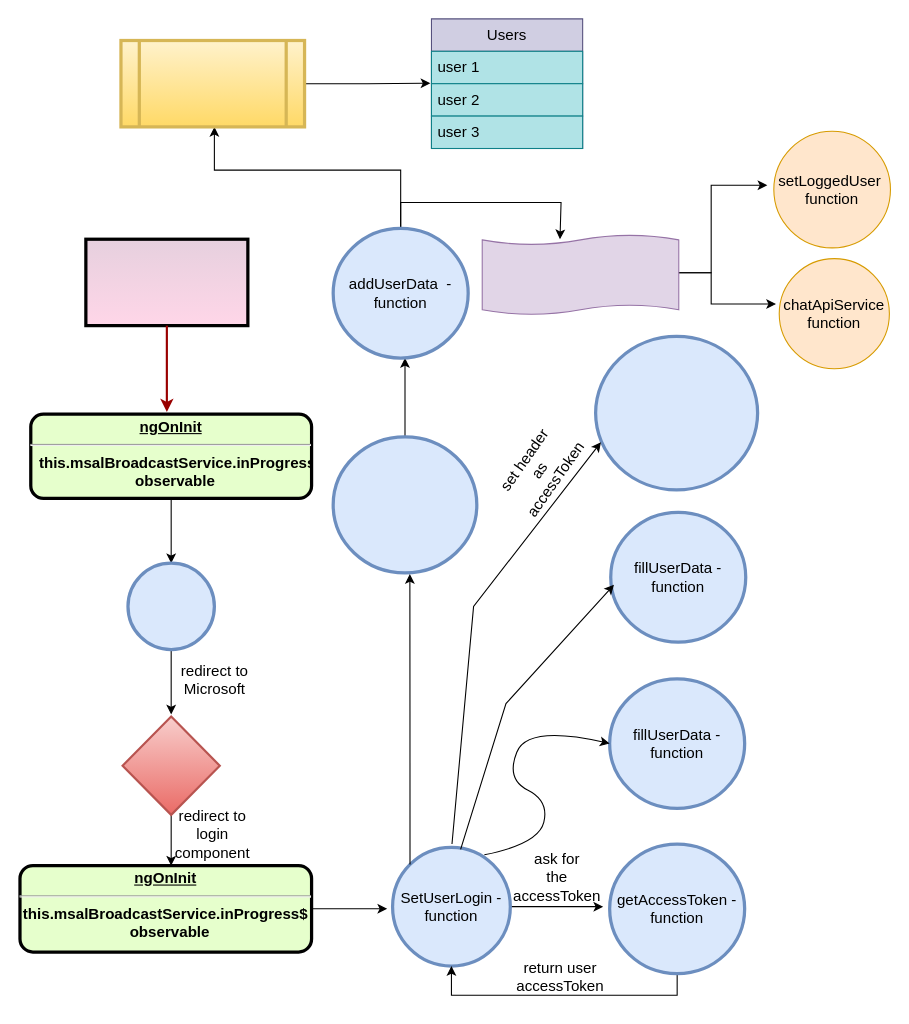
The diagram is 909 pixels wide and 1024 high, and some of its shapes have lost their labels. The centre of each missing label's shape, as x and y in pixels:
addTokenToHeader - function: the point at 676,412
azure-login component: the point at 166,282
backend - def login: the point at 212,83
getCSRFToken - function: the point at 404,504
Login - function: the point at 170,606
Microsoft Login: the point at 170,765
this.usersService.postLogin: the point at 580,274
